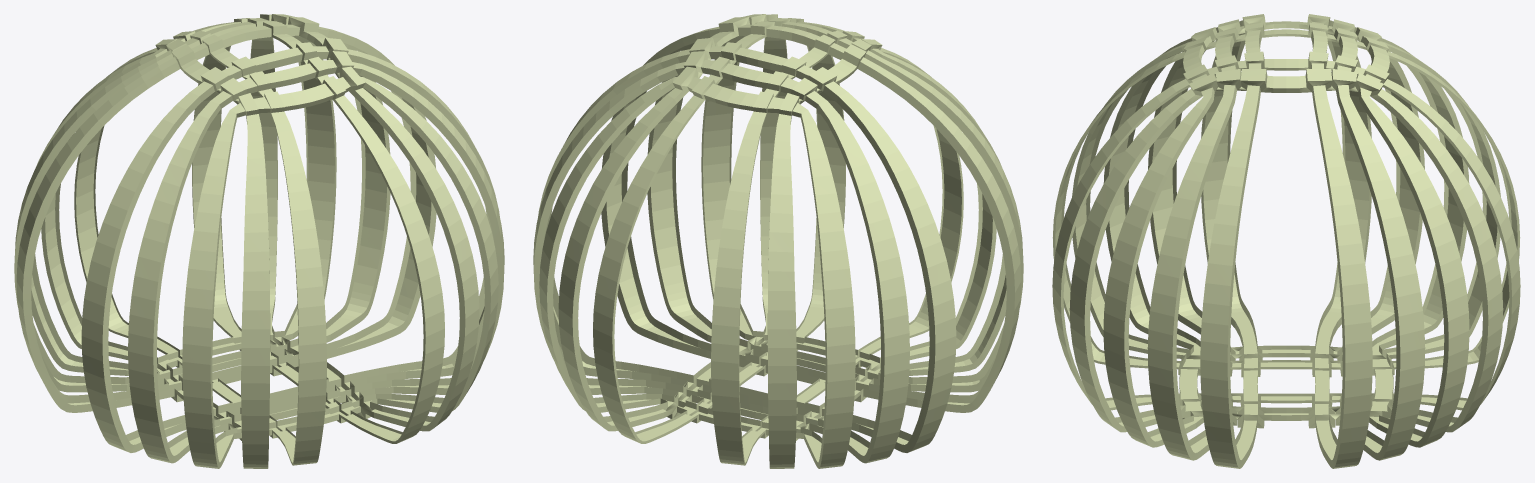
Rendered from Wood Architecture_02.fbx.
The picture shows the model from 3 angles, left to right: view 1: azimuth 30°, elevation 25°; view 2: azimuth 150°, elevation 25°; view 3: azimuth 270°, elevation 25°; orthographic projection.
Parts seen in each view (by area): view 1: Woodarchitecture2; view 2: Woodarchitecture2; view 3: Woodarchitecture2.
Boxes of the visible parts, x1,y1,x2,y2 form: Woodarchitecture2: [14, 14, 504, 468]; Woodarchitecture2: [533, 14, 1023, 468]; Woodarchitecture2: [1052, 14, 1520, 468].
Bounding box in the file's own units: 6.03 × 4.92 × 5.89.
